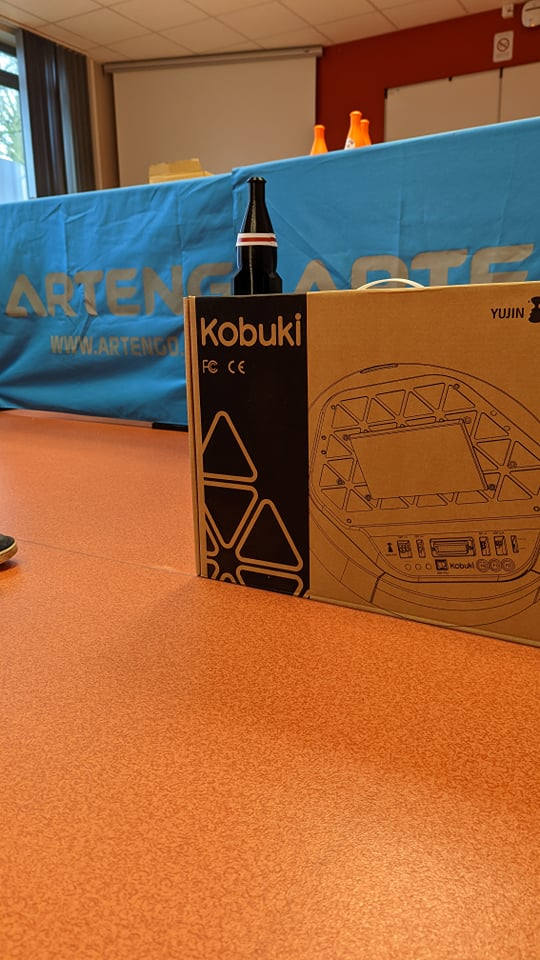bottle: (214, 174, 291, 306)
